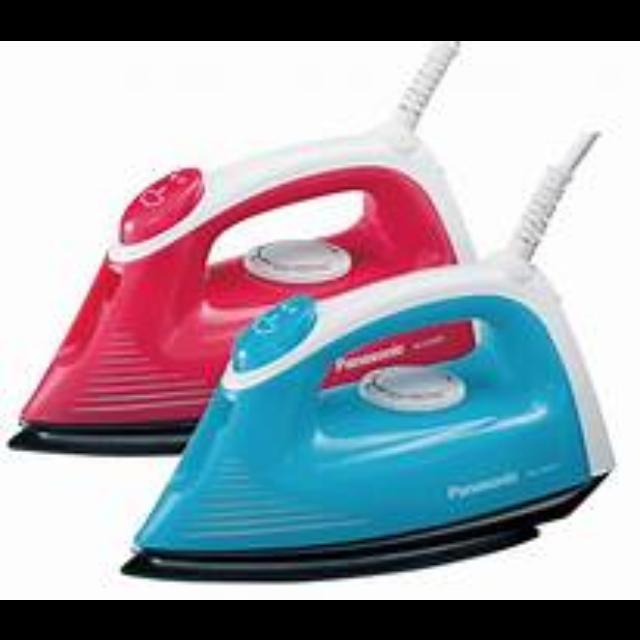Clothes-Iron: (11, 120, 489, 464), (120, 253, 630, 574)
